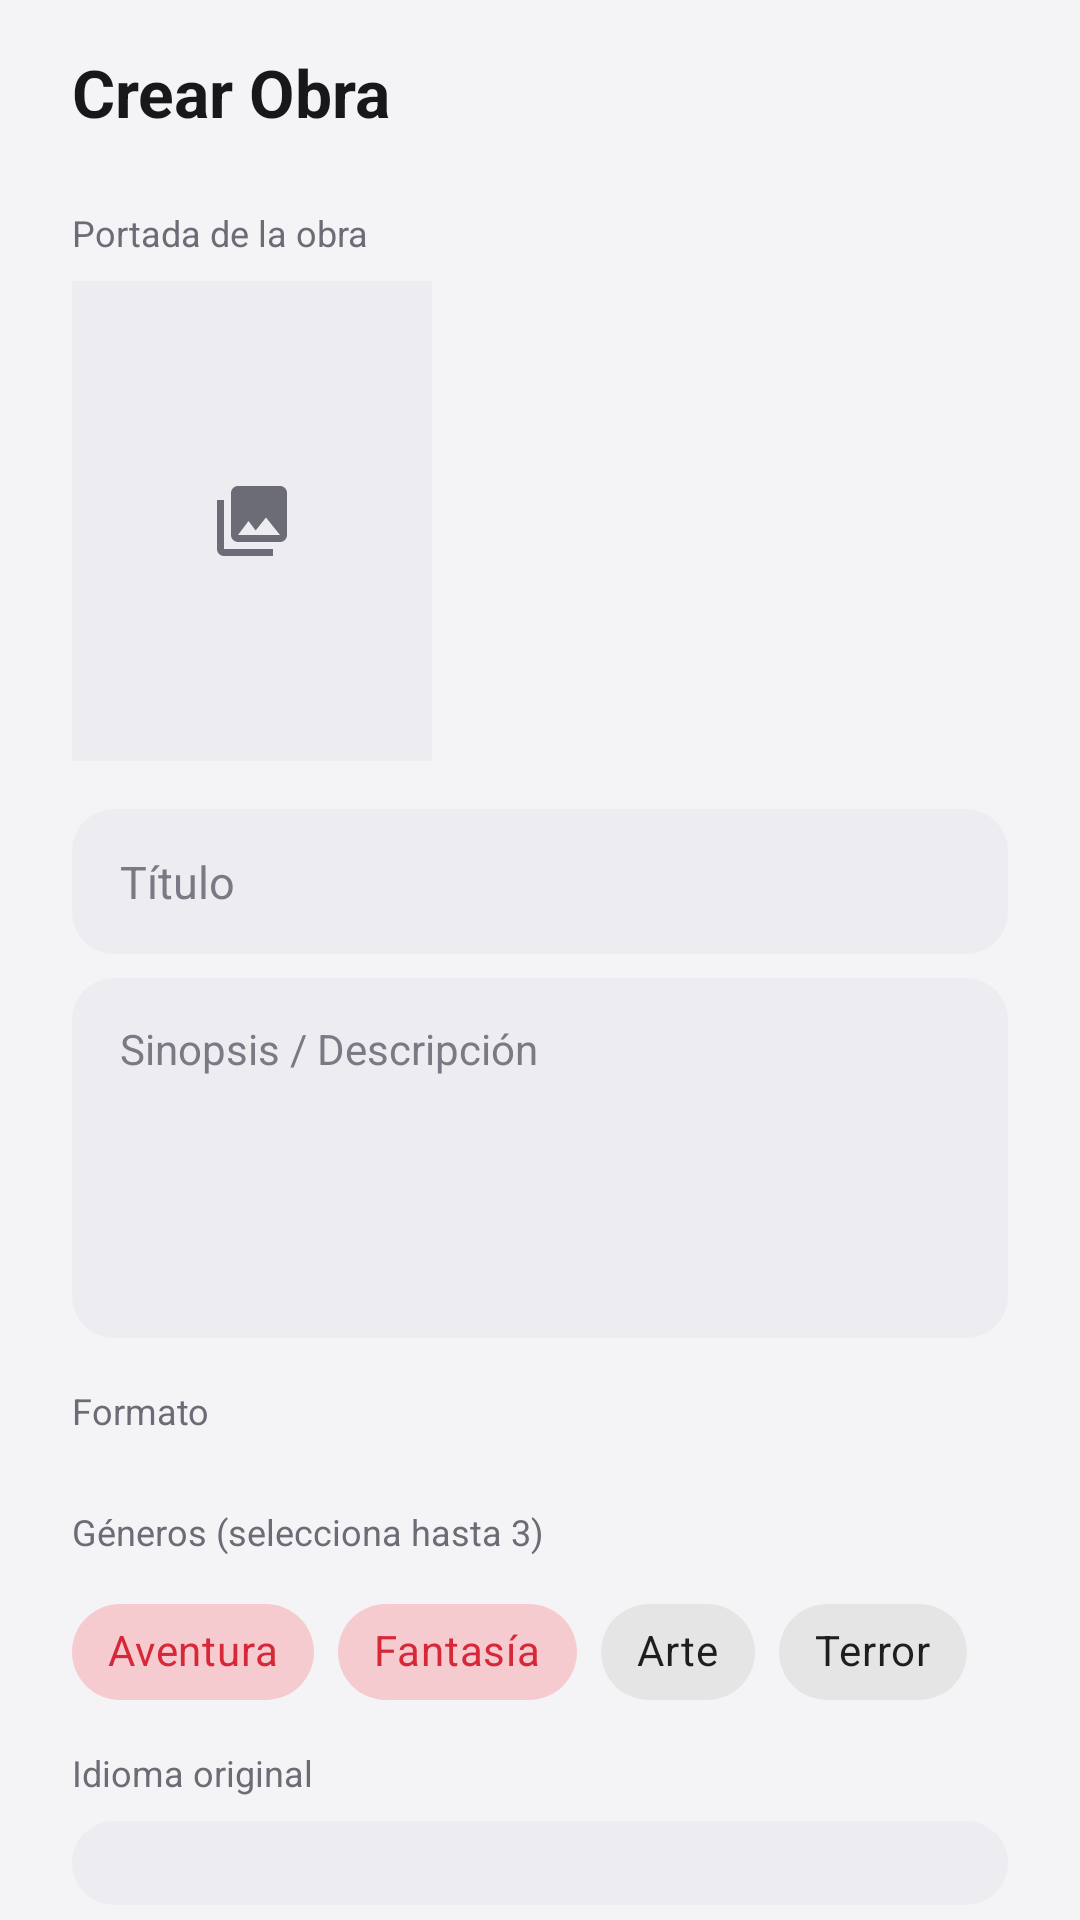

Where icons sit on this 1080px x 1920px app screen, as bbox(x1, y1, x2, y2):
gallery: bbox(217, 486, 287, 556)
